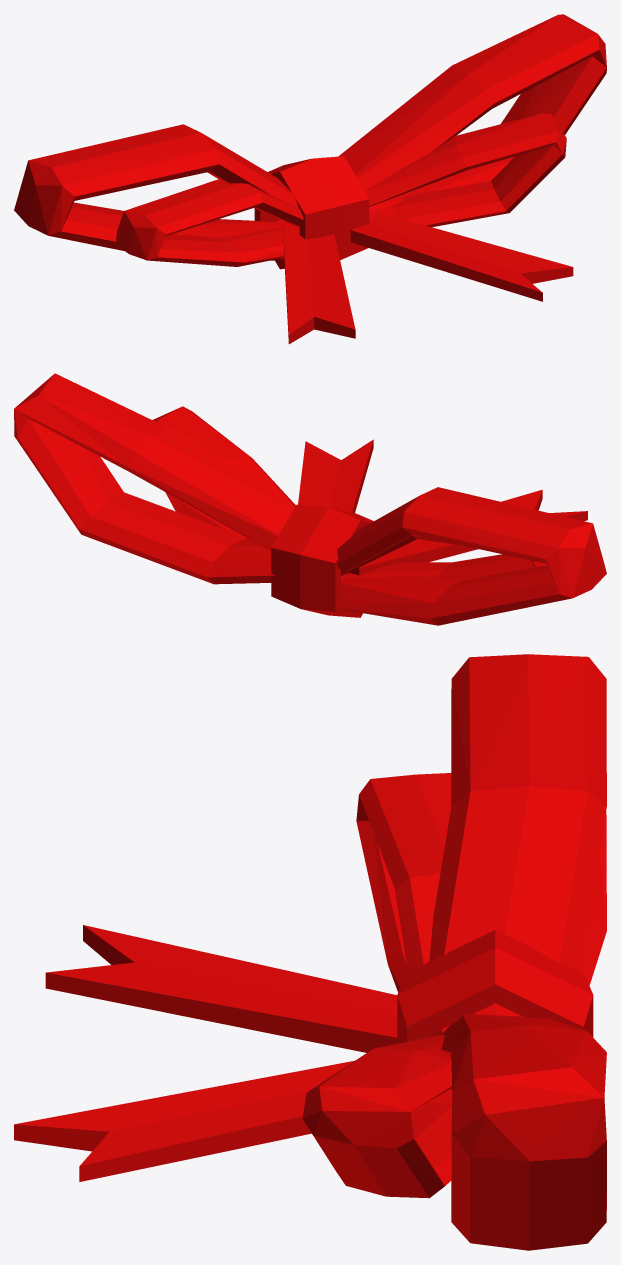
Rendered from Ribbon.fbx.
The picture shows the model from 3 angles, top to bottom: view 1: azimuth 30°, elevation 25°; view 2: azimuth 150°, elevation 25°; view 3: azimuth 270°, elevation 25°; orthographic projection. The views are drawn at different scales.
Visible parts, largest first — view 1: Ribbon; view 2: Ribbon; view 3: Ribbon.
Boxes of the visible parts, bbox=[...] form: Ribbon: bbox=[14, 14, 606, 344]; Ribbon: bbox=[14, 373, 606, 625]; Ribbon: bbox=[14, 654, 606, 1250].
Size of the model in its own units: 28.11 by 8.12 by 14.65.
